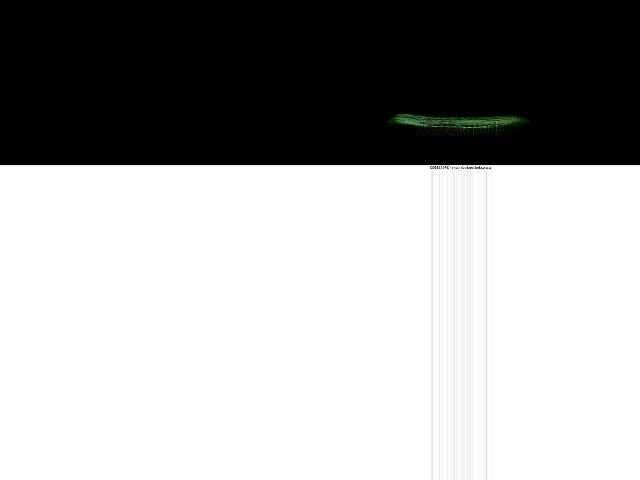cucumber: (386, 114, 533, 136)
